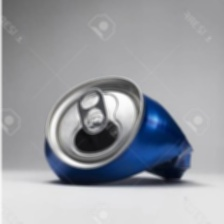can: (41, 75, 195, 188)
